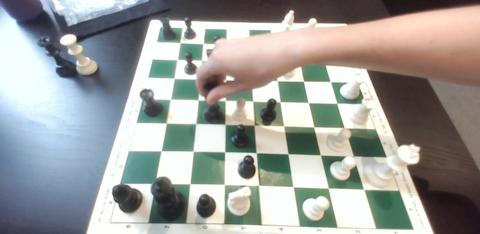xcorner: (220, 182, 229, 191), (253, 150, 262, 159), (285, 151, 294, 160), (161, 120, 170, 129), (251, 122, 260, 131), (278, 98, 287, 107), (169, 74, 178, 83), (297, 58, 306, 67), (150, 181, 159, 189), (185, 182, 194, 190), (255, 183, 263, 192), (156, 148, 164, 157), (188, 149, 197, 157), (350, 153, 359, 161), (191, 121, 200, 129), (221, 122, 230, 130), (342, 124, 350, 133), (194, 96, 202, 105), (306, 99, 315, 107), (334, 100, 343, 108), (222, 76, 231, 84), (249, 76, 257, 85), (275, 77, 284, 85), (302, 77, 310, 86), (173, 55, 181, 64), (223, 56, 231, 65), (272, 58, 281, 66), (322, 59, 331, 67), (176, 38, 184, 47), (199, 39, 208, 47), (223, 39, 231, 48), (270, 41, 279, 49), (317, 42, 326, 50), (290, 184, 298, 192), (325, 185, 333, 193), (360, 186, 368, 194), (221, 150, 229, 158), (318, 152, 326, 160), (282, 123, 290, 131), (312, 124, 320, 132), (166, 96, 174, 104), (222, 97, 230, 105), (250, 98, 258, 106), (196, 75, 204, 83), (328, 78, 336, 86), (198, 56, 206, 64), (248, 57, 256, 65), (247, 40, 255, 48), (294, 41, 302, 49)
